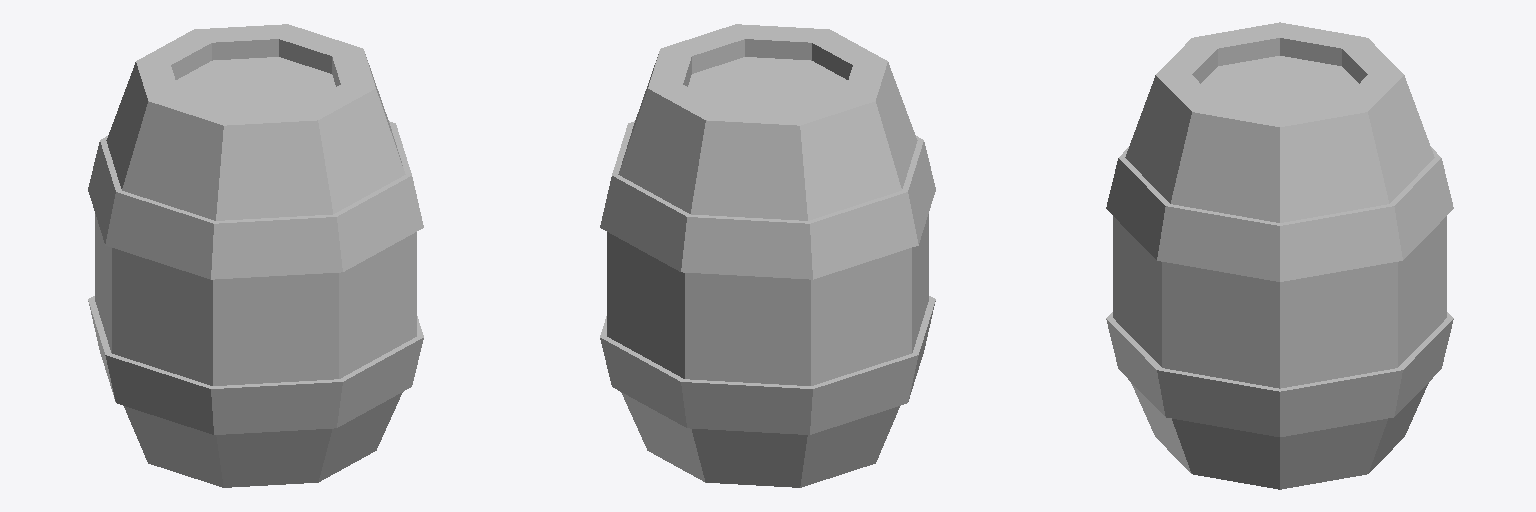
File: ForestBarrel.obj
3 views of the same model, side by side, from view 1: azimuth 30°, elevation 25°; view 2: azimuth 150°, elevation 25°; view 3: azimuth 270°, elevation 25° (orthographic).
Visible parts, largest first — view 1: ForestBarrel; view 2: ForestBarrel; view 3: ForestBarrel.
Boxes of the visible parts, box(x1,y1,x2,y2) form: ForestBarrel: box(88, 24, 423, 487); ForestBarrel: box(600, 24, 935, 487); ForestBarrel: box(1106, 22, 1453, 489).
Bounding box in the file's own units: 139 × 159 × 139.